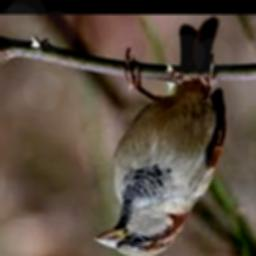Sparrow: (94, 18, 224, 256)
